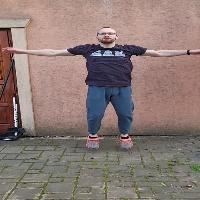jumping_jacks: (8, 23, 200, 151)
